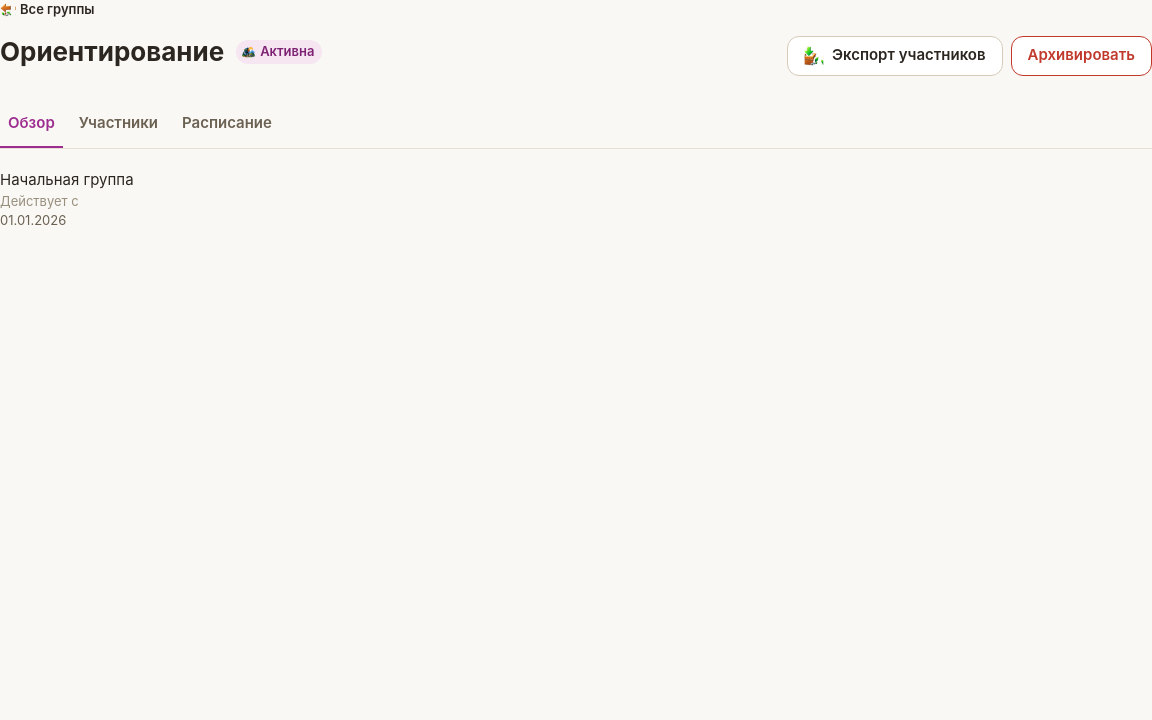
Test: GroupDetailPage › searches for participants scoped to the group's club, not the whole installation
Click the tab "Участники" at (118, 124), box [71,100,166,148]
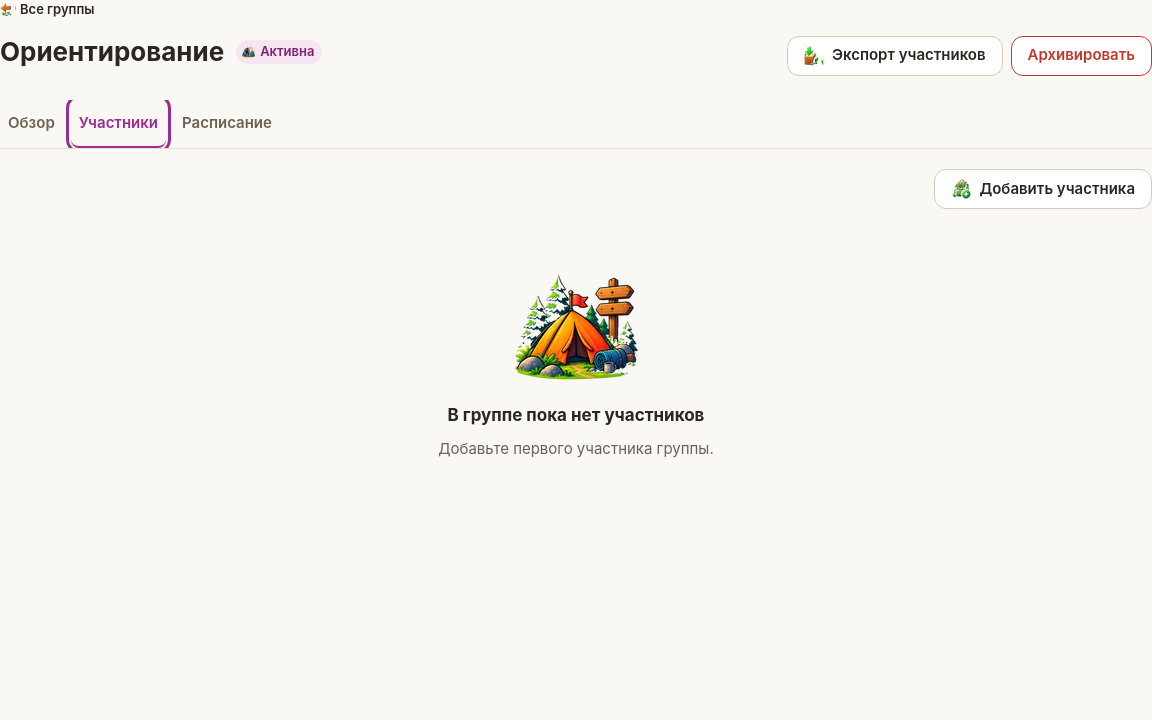
Click the button "Добавить участника" at (1043, 189), box [934,169,1151,209]
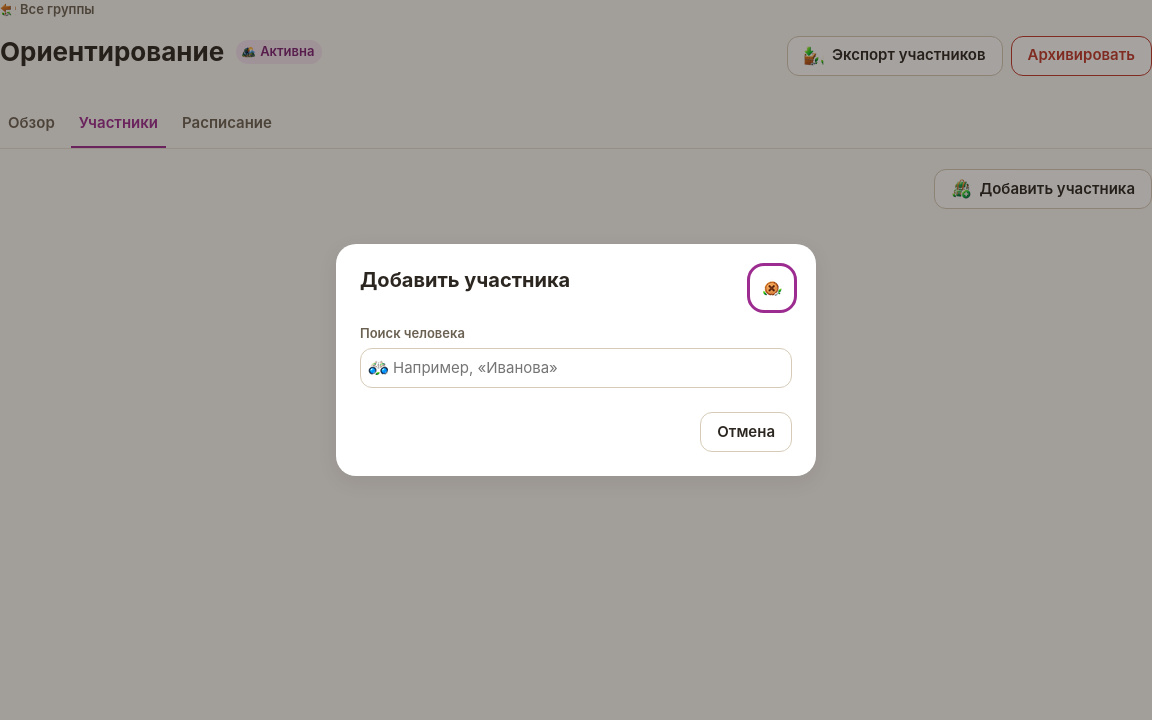
Type "Ива" into the search field labelled "Поиск человека" at (576, 368), box [360,348,792,388]
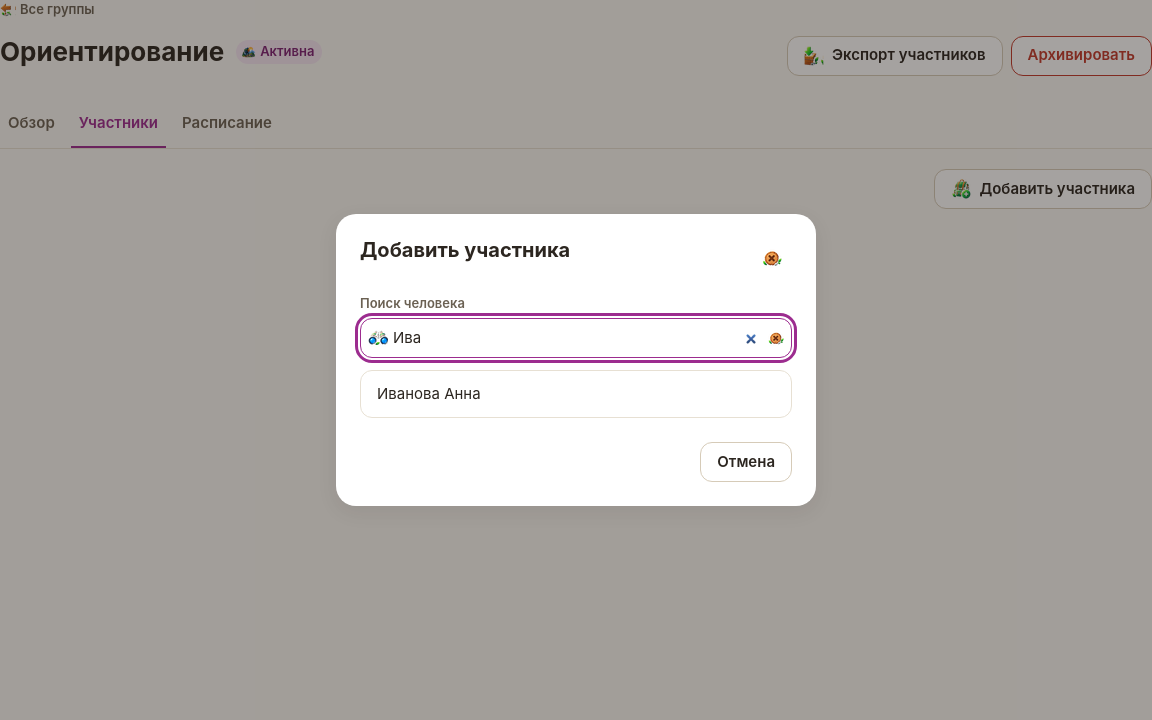
Expected: the button "Иванова Анна" is shown, [365,374,787,413]
